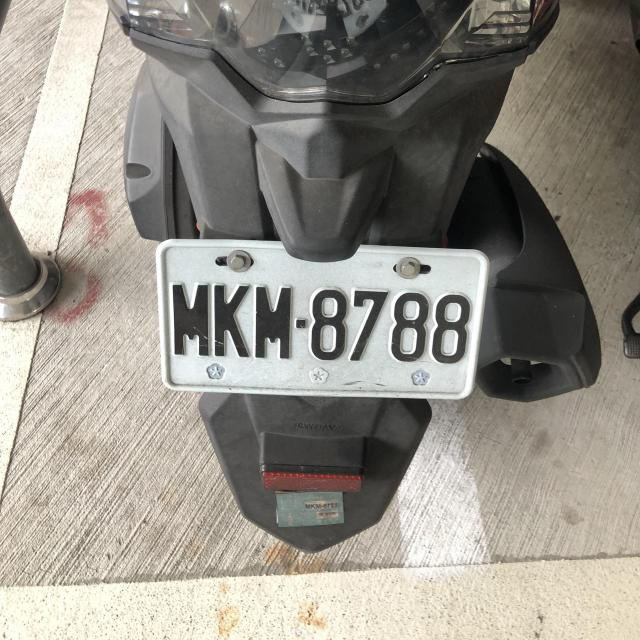W: (150, 235, 488, 402)
